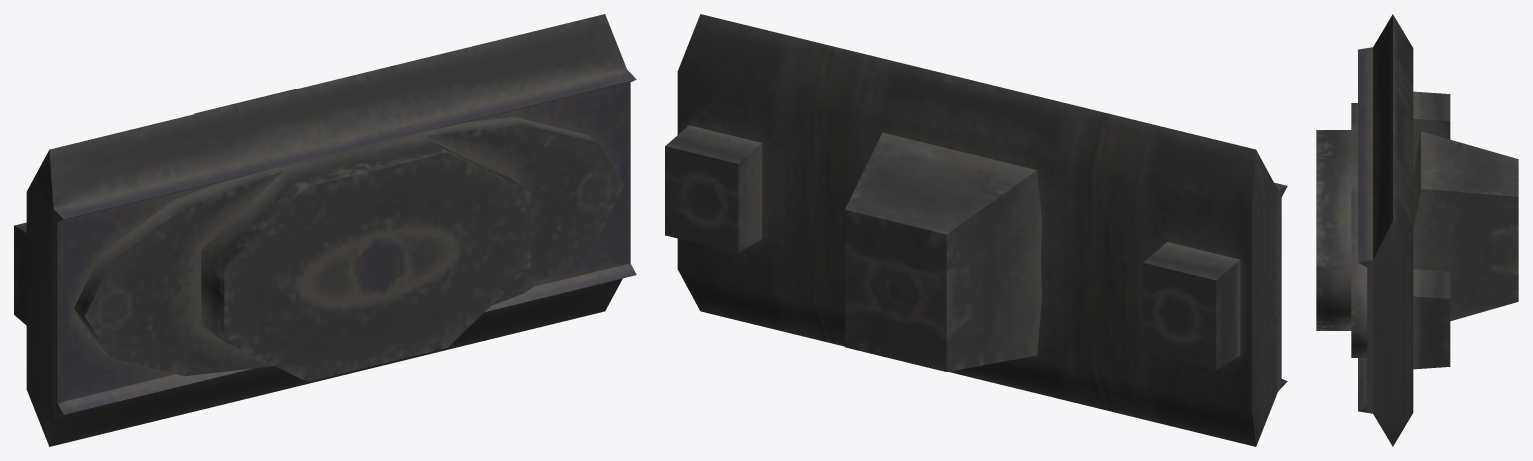
3 views of the same model, side by side, from view 1: azimuth 30°, elevation 25°; view 2: azimuth 150°, elevation 25°; view 3: azimuth 270°, elevation 25° (orthographic). The views are drawn at different scales.
Parts seen in each view (by area): view 1: set_0_group_0; view 2: set_0_group_0; view 3: set_0_group_0.
Part boxes in pixels (<box>): set_0_group_0: <box>14,14,636,446</box>; set_0_group_0: <box>665,14,1287,446</box>; set_0_group_0: <box>1316,14,1518,446</box>.
Size of the model in its own units: 0.343 by 0.1698 by 0.1375.
Materials: 1 (1 with a texture image).
